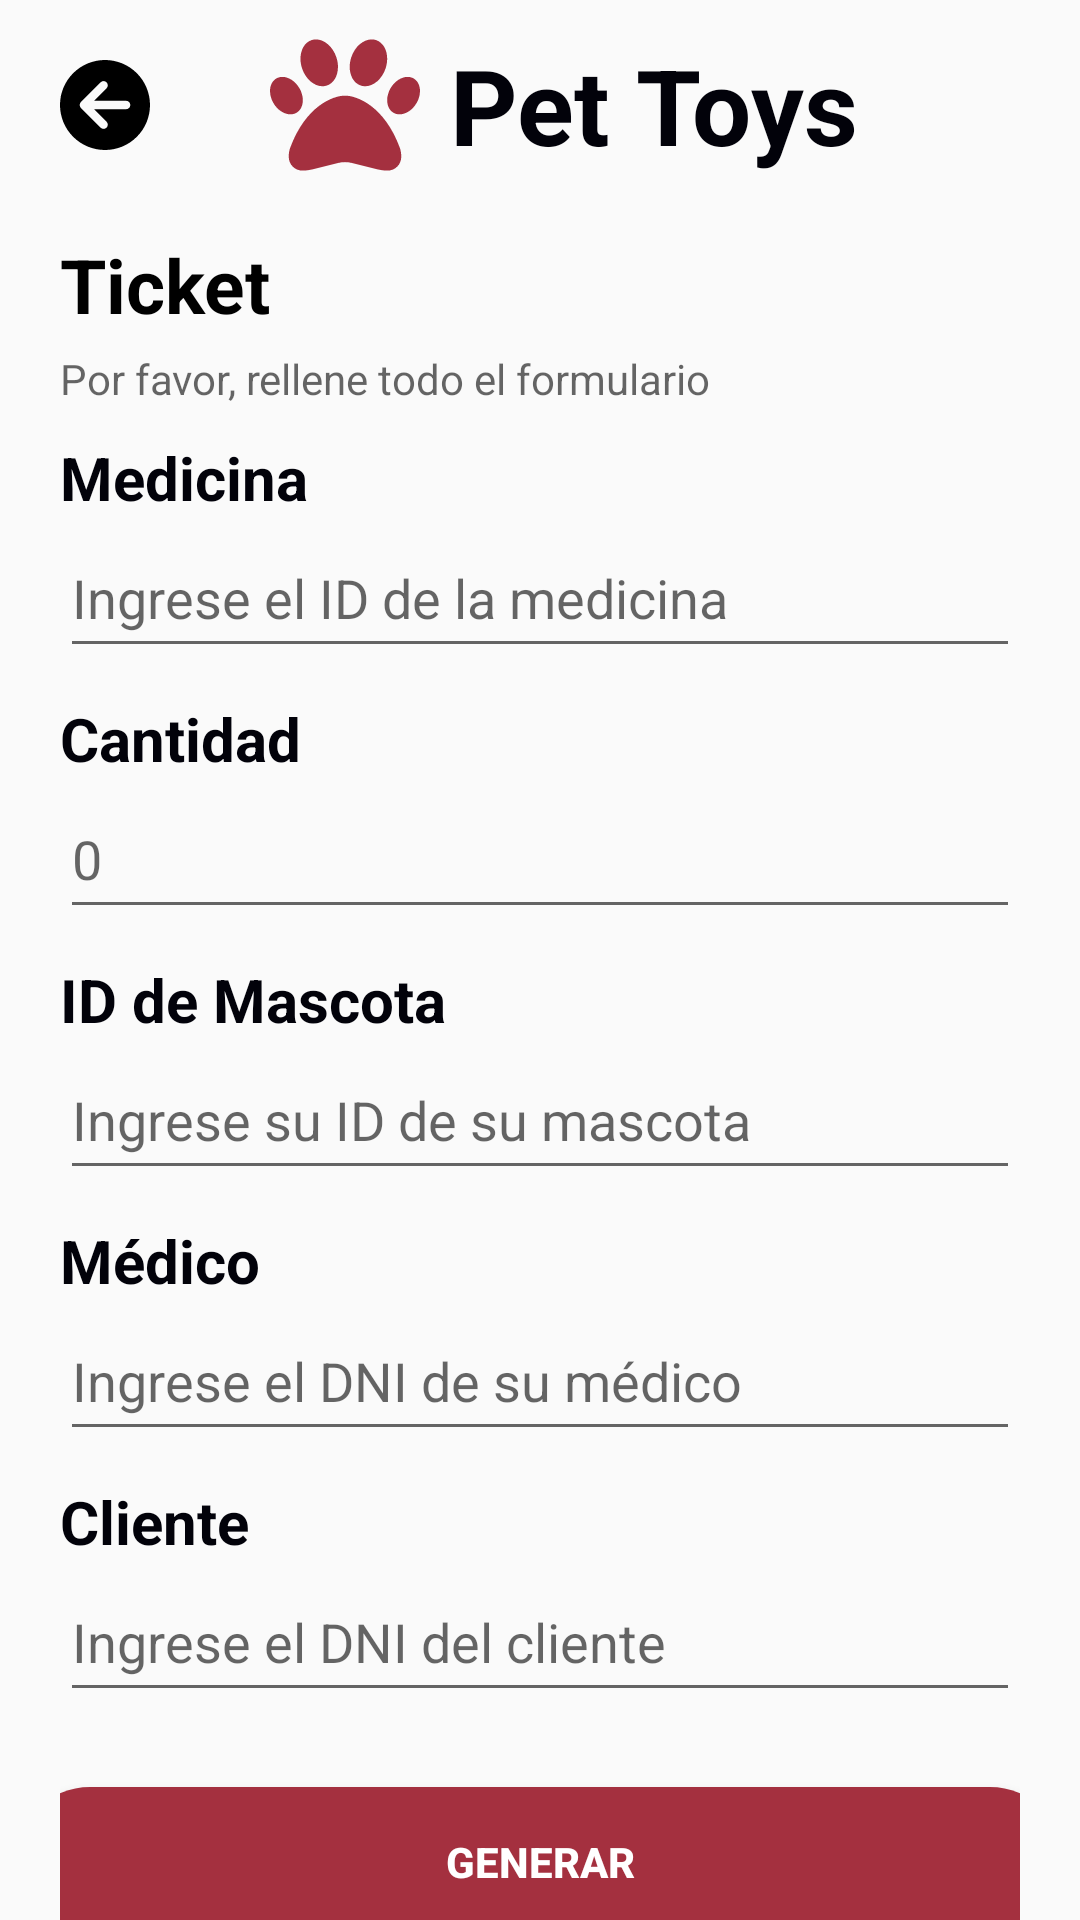

Named icons in this screenshot (1080px x 1920px) and their centers, point (x, y):
paw: point (345, 105)
